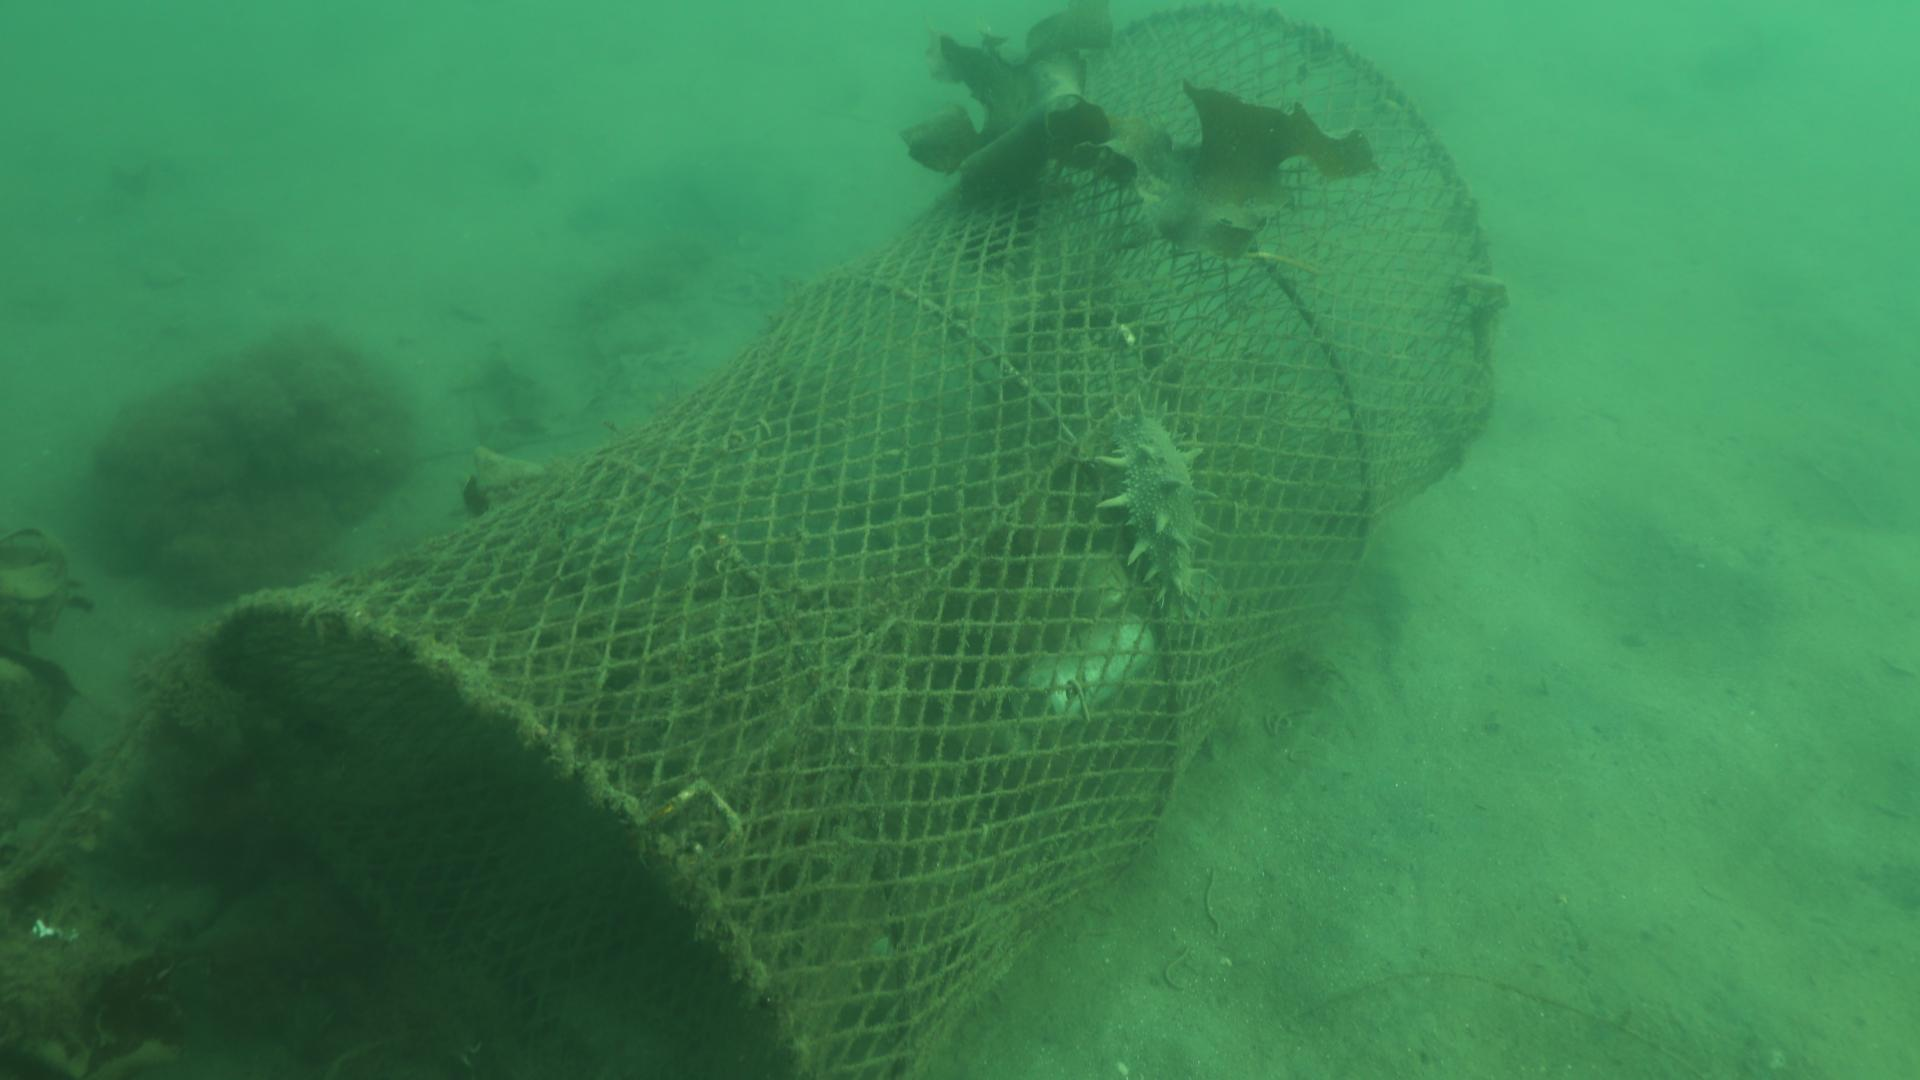spring fish trap: (181, 7, 1499, 1080)
